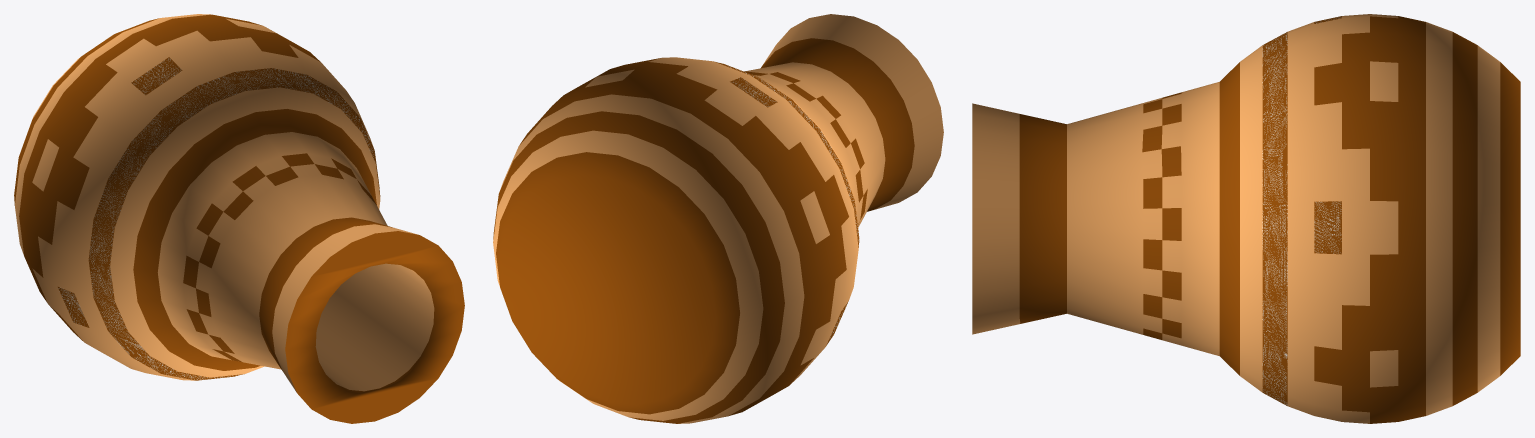
The model's file is model_scale.obj.
The picture shows the model from 3 angles, left to right: view 1: azimuth 30°, elevation 25°; view 2: azimuth 150°, elevation 25°; view 3: azimuth 270°, elevation 25°; orthographic projection. The views are drawn at different scales.
Visible parts, largest first — view 1: mesh1_mesh1-geometry; view 2: mesh1_mesh1-geometry; view 3: mesh1_mesh1-geometry.
Part boxes in pixels (x1,y1,x2,y2): mesh1_mesh1-geometry: [14, 14, 464, 423]; mesh1_mesh1-geometry: [493, 14, 943, 423]; mesh1_mesh1-geometry: [972, 14, 1520, 423].
Size of the model in its own units: 0.1467 by 0.1467 by 0.1954.
